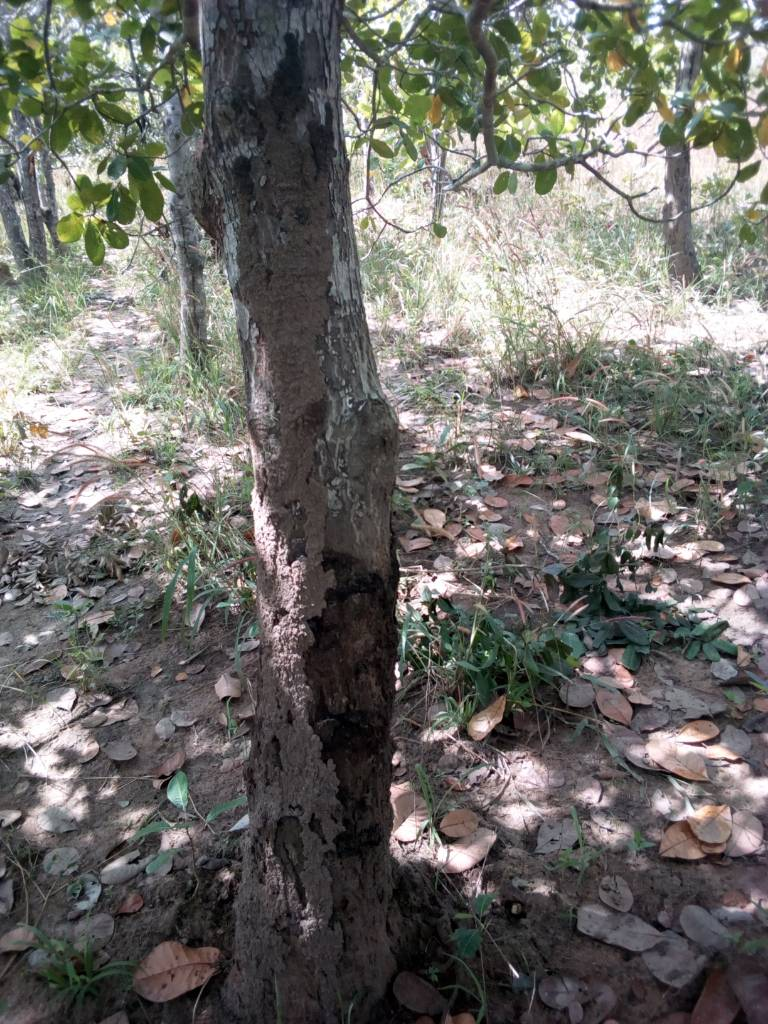Termites: (254, 541, 396, 985), (243, 128, 363, 530)
